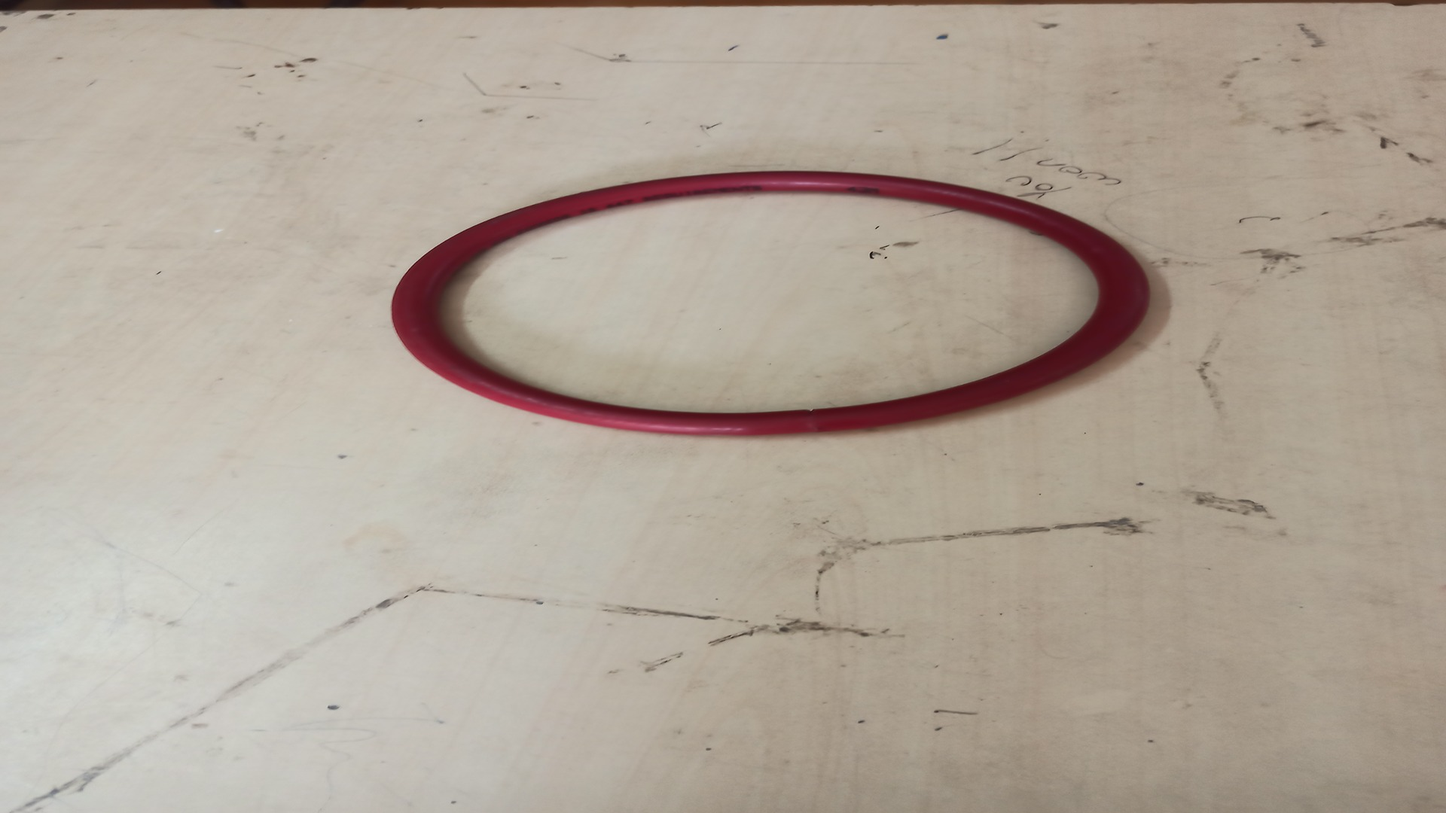Red ring: (391, 175, 1151, 436)
